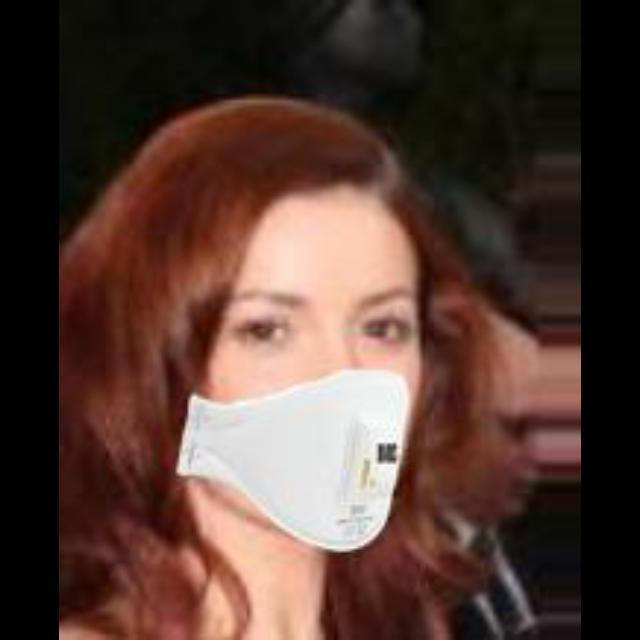suspicion: (195, 149, 482, 589)
